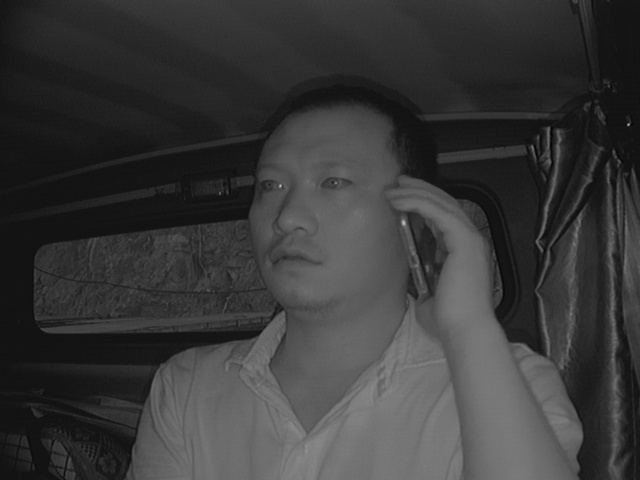hand: (383, 167, 492, 325)
